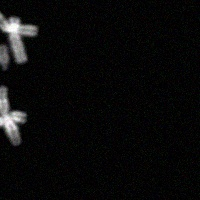chromosome: (0, 86, 21, 146), (0, 9, 38, 36), (8, 17, 27, 64), (0, 111, 27, 127), (0, 44, 8, 70)
